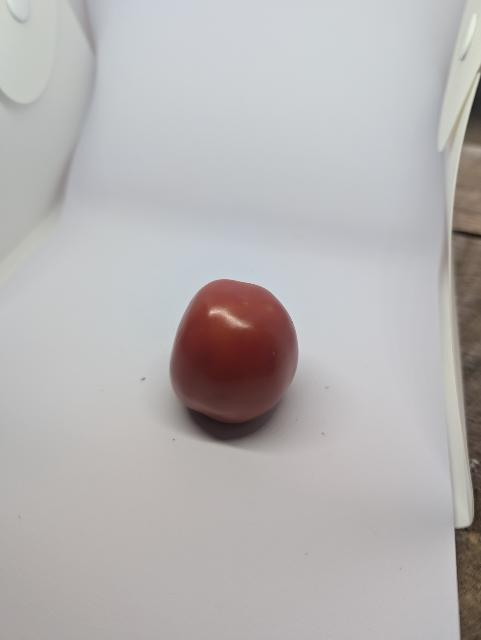red: (168, 269, 306, 438)
